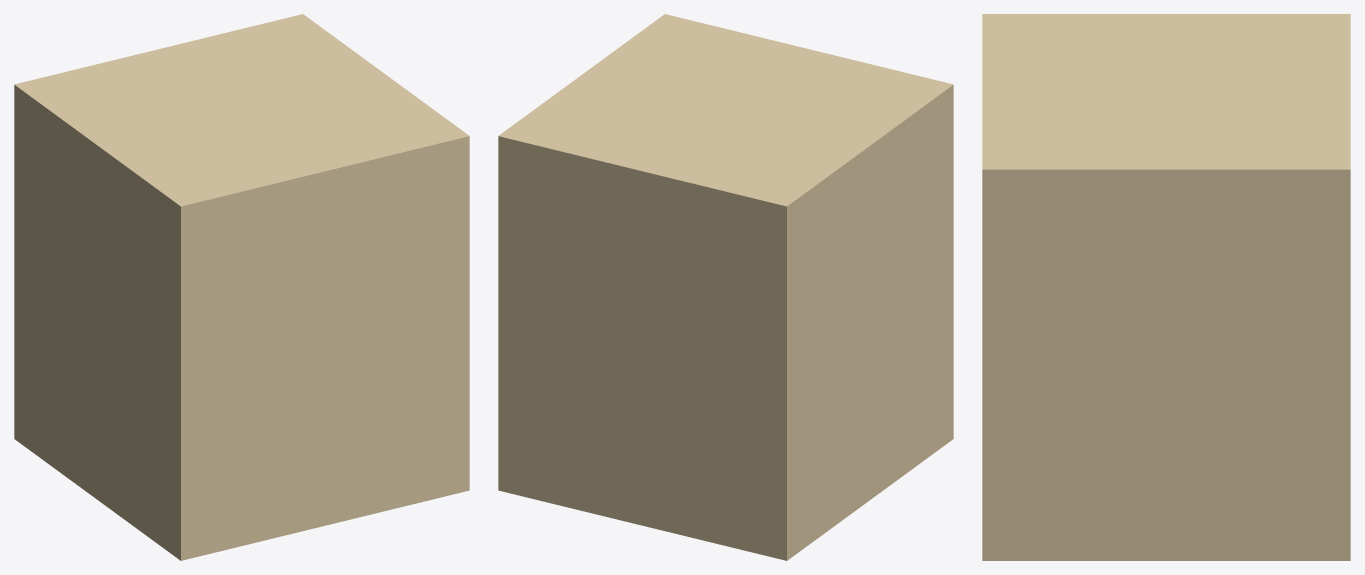
File: cacafantasma_manga_sup.glb
The picture shows the model from 3 angles, left to right: view 1: azimuth 30°, elevation 25°; view 2: azimuth 150°, elevation 25°; view 3: azimuth 270°, elevation 25°; orthographic projection. The views are drawn at different scales.
Parts seen in each view (by area): view 1: cacafantasma_manga_sup; view 2: cacafantasma_manga_sup; view 3: cacafantasma_manga_sup.
Part boxes in pixels (x1,y1,x2,y2): cacafantasma_manga_sup: (14, 14, 469, 560); cacafantasma_manga_sup: (498, 14, 953, 560); cacafantasma_manga_sup: (982, 14, 1350, 560).
Bounding box in the file's own units: 0.29 × 0.34 × 0.29.
